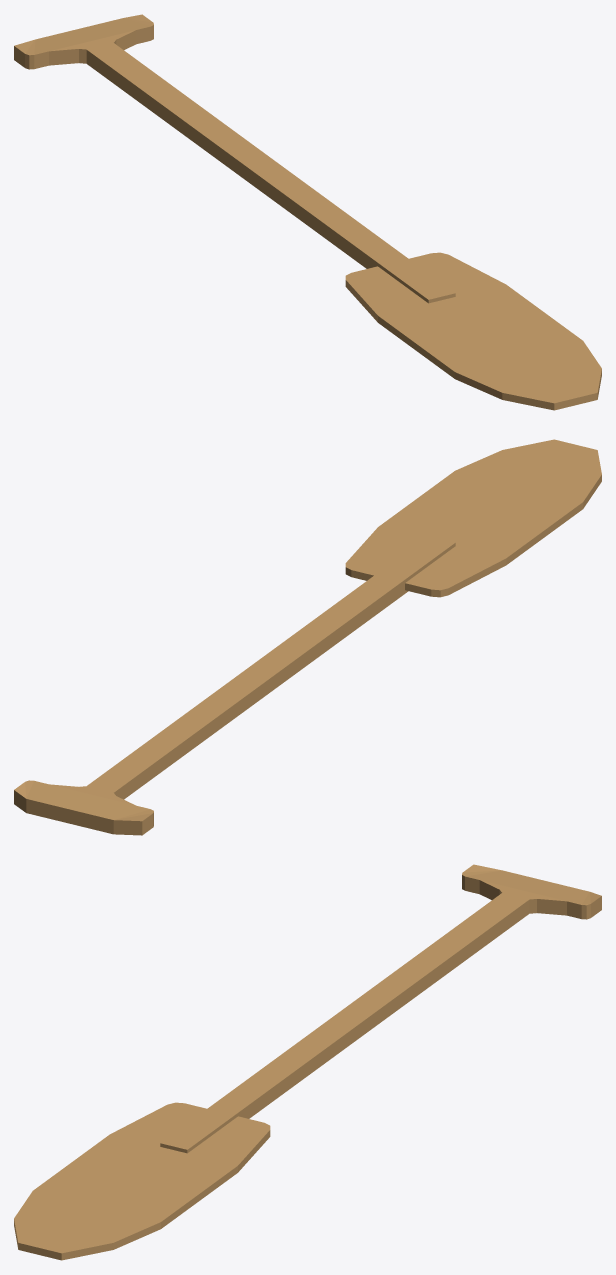
File: Wiosło.fbx
The picture shows the model from 3 angles, top to bottom: view 1: azimuth 30°, elevation 25°; view 2: azimuth 150°, elevation 25°; view 3: azimuth 330°, elevation 25°; orthographic projection.
Visible parts, largest first — view 1: Cube; view 2: Cube; view 3: Cube.
Part boxes in pixels (x1,y1,x2,y2): Cube: (14,14,601,410); Cube: (14,439,601,835); Cube: (14,864,601,1260).
Size of the model in its own units: 47.06 by 5.84 by 318.
